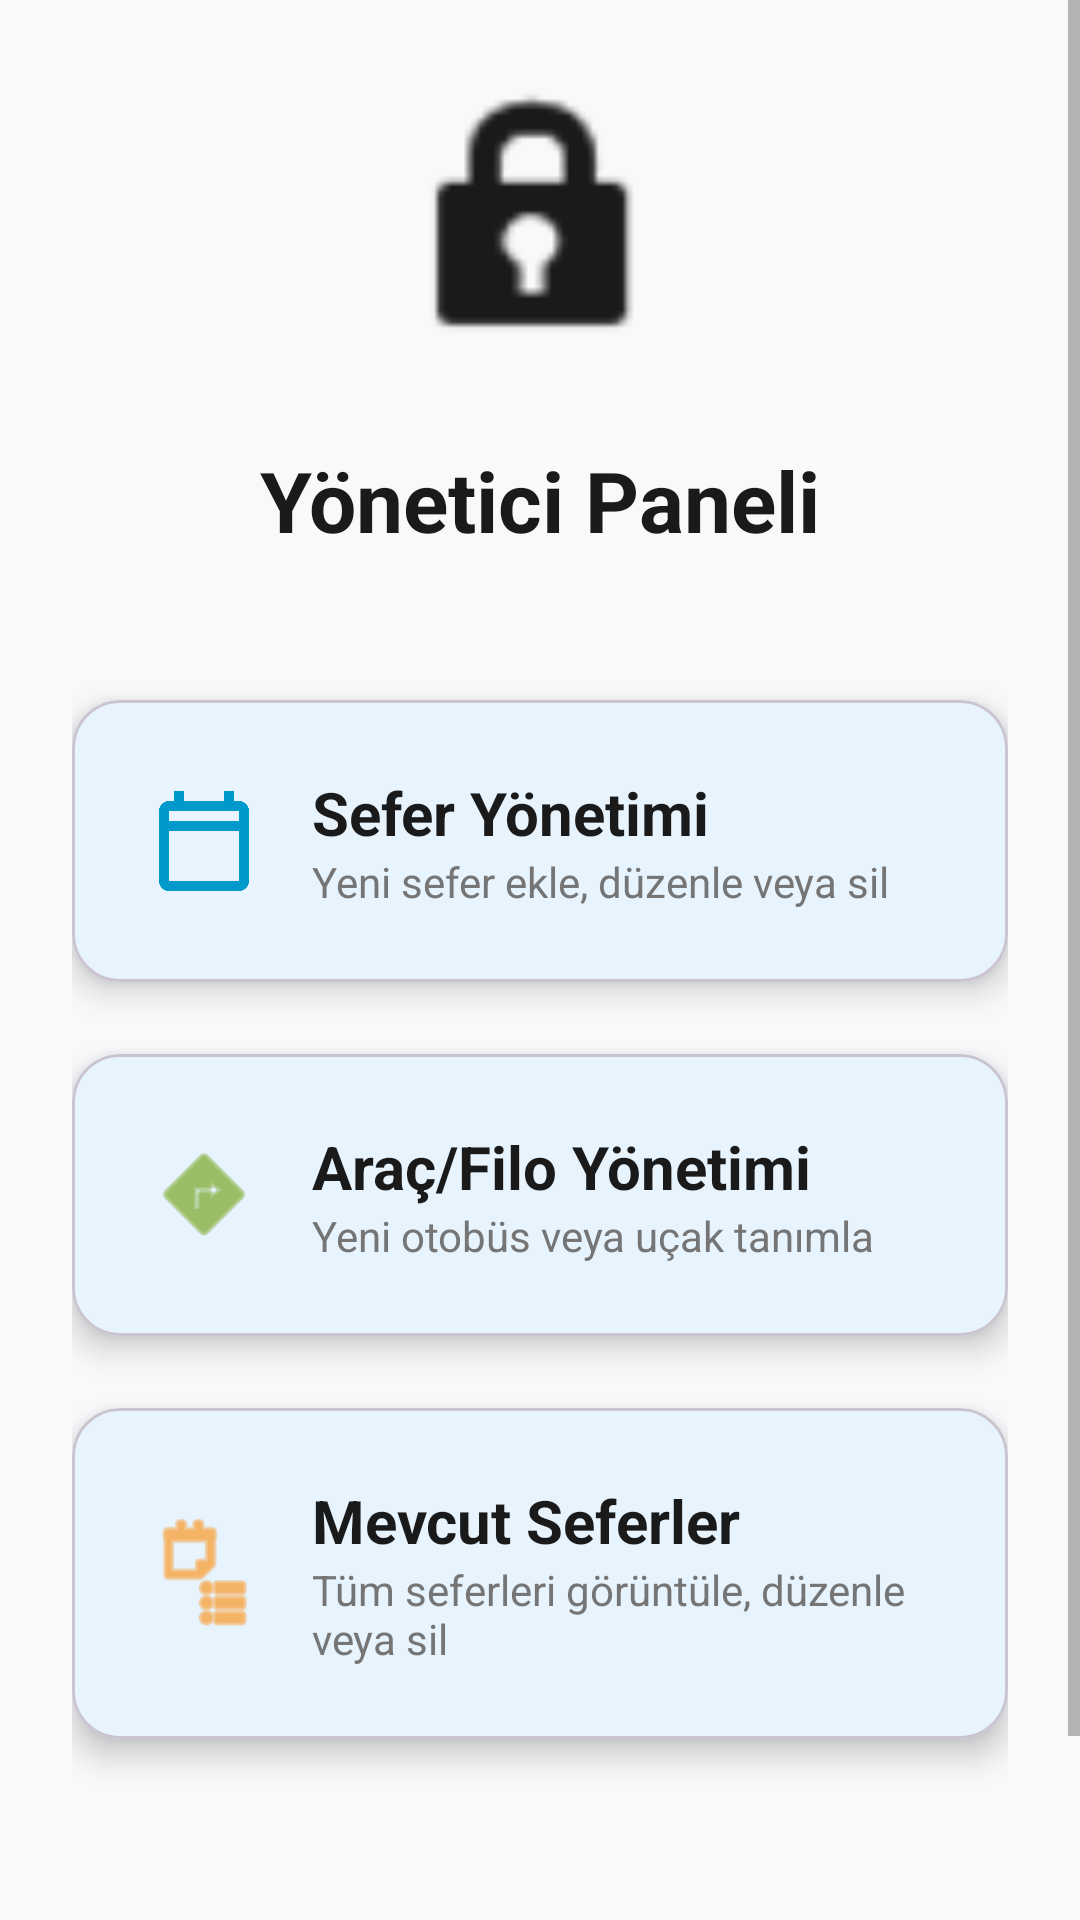

Icons on this 1080×1920 Android screen, each with its box as (left=x1, top=y1, right=x2, bottom=y2):
agenda: (left=162, top=1519, right=247, bottom=1626)
directions: (left=163, top=1153, right=245, bottom=1235)
lock idle: (left=434, top=97, right=632, bottom=327)
mycalendar: (left=159, top=791, right=249, bottom=891)
